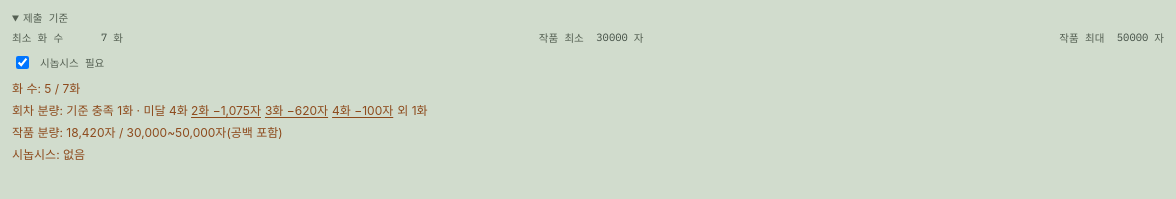
Test case: SubmissionCheck › refuses a work minimum past its maximum before it reaches the engine
Replace the text in the field named "작품 최소" with "60000" at x=609, y=37, box [588, 29, 630, 45]
Then press Enter
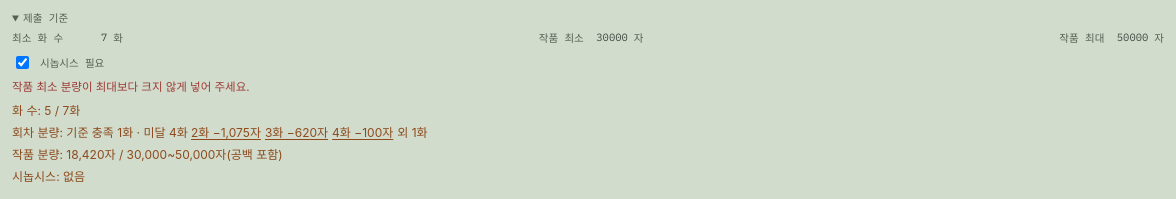
Now the message shows "작품 최소 분량이 최대보다 크지 않게", box [12, 80, 250, 94]
